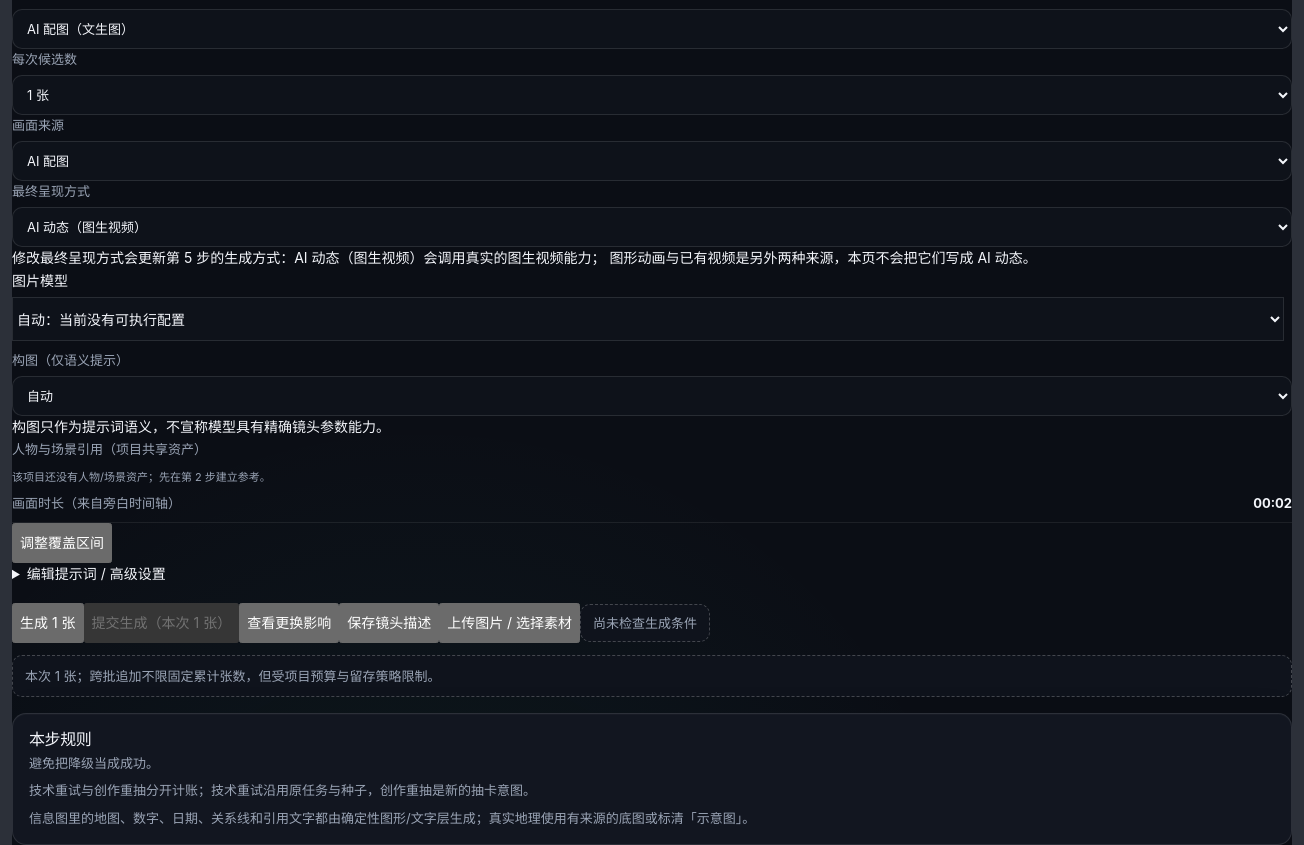
Test: storyboard operation feedback (FE-A06) › shows the impact preview as a panel with counts
This screenshot has width=1304, height=845.
(page scrolled)
Step 1. Click the button "查看更换影响" → [289, 623], box [239,603,339,643]
(page scrolled)
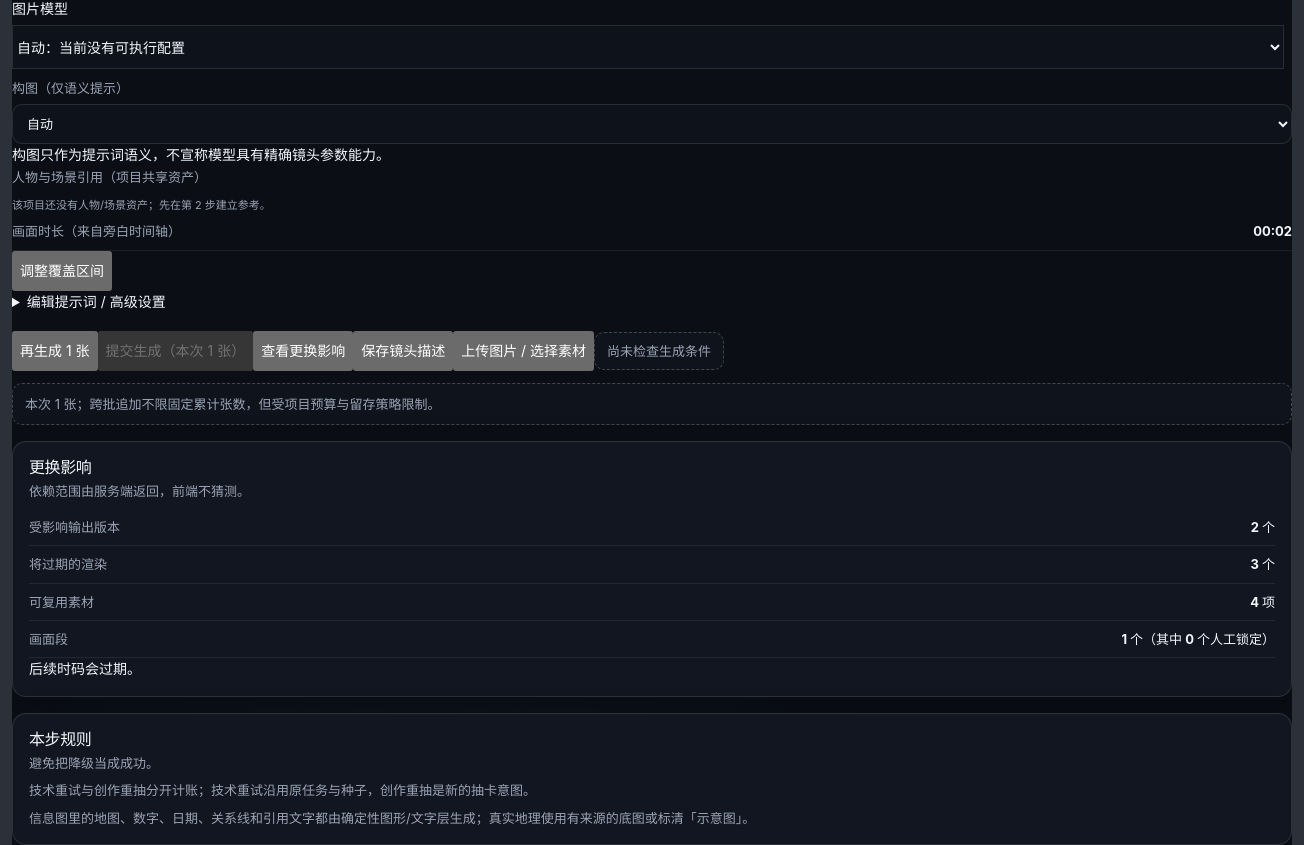
Expected: the element named "更换影响" shows "2 个", [1251,519,1275,535]
Expected: the element named "更换影响" shows "3 个", [1250,556,1275,572]
Expected: the element named "更换影响" shows "4 项", [1250,594,1275,610]
